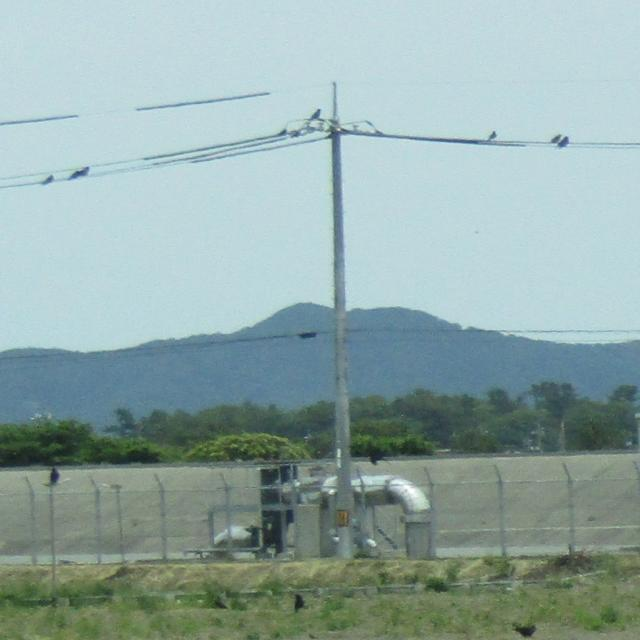pole: (278, 70, 409, 568)
